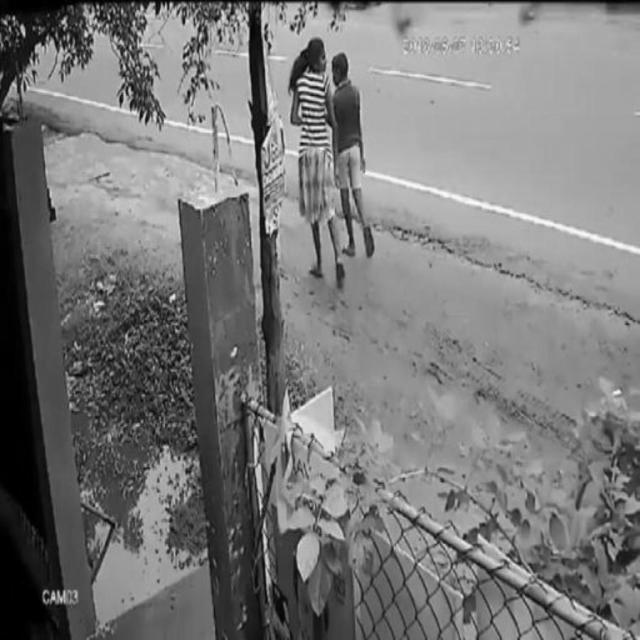person: (285, 31, 339, 289), (332, 54, 376, 265)
